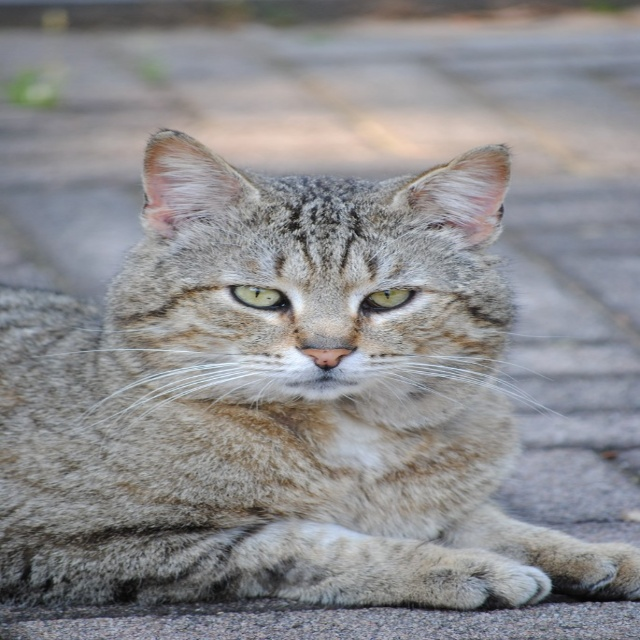Lynx: (0, 127, 639, 617)
